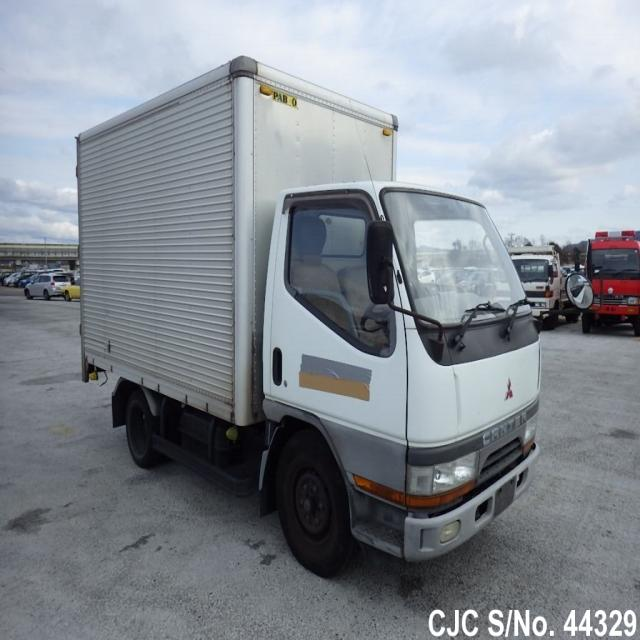truck: (75, 53, 542, 574)
